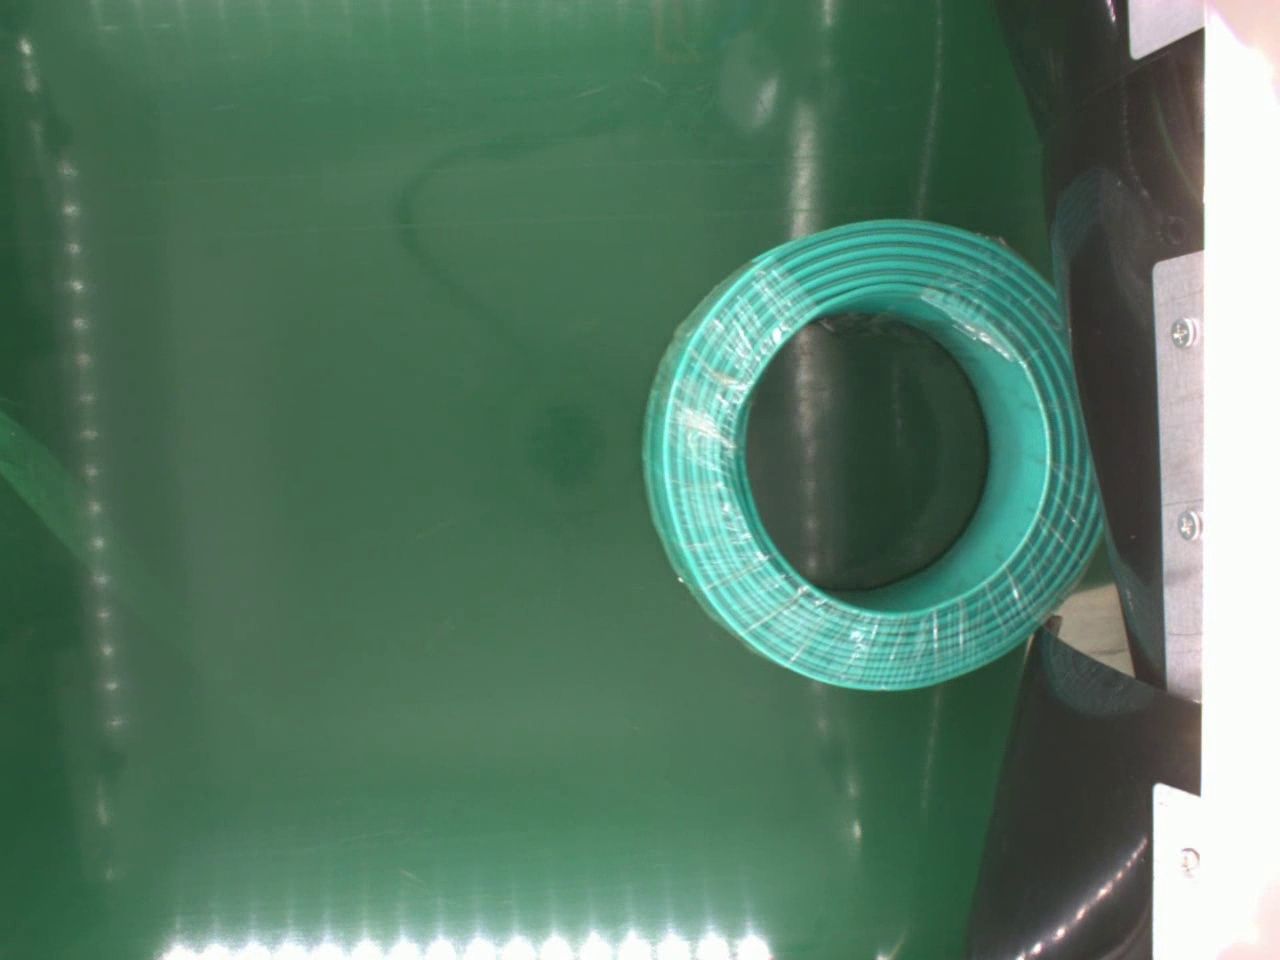green: (643, 212, 1095, 688)
